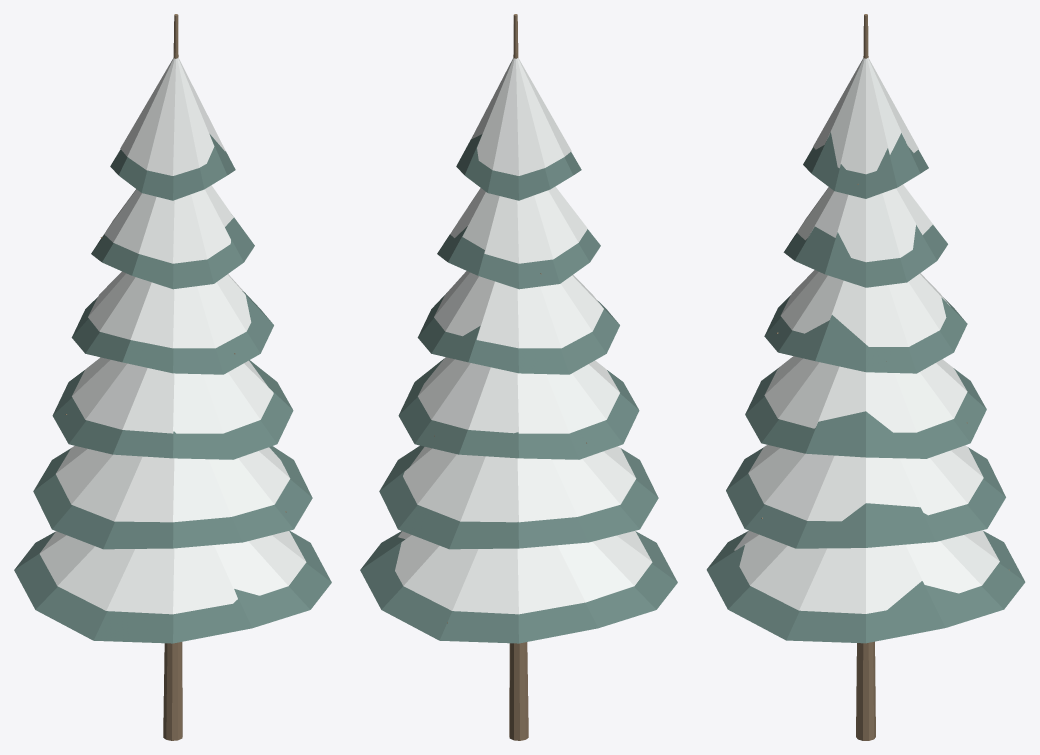
The picture shows the model from 3 angles, left to right: view 1: azimuth 30°, elevation 25°; view 2: azimuth 150°, elevation 25°; view 3: azimuth 270°, elevation 25°; orthographic projection.
Size of the model in its own units: 10.15 by 25.4 by 10.15.
